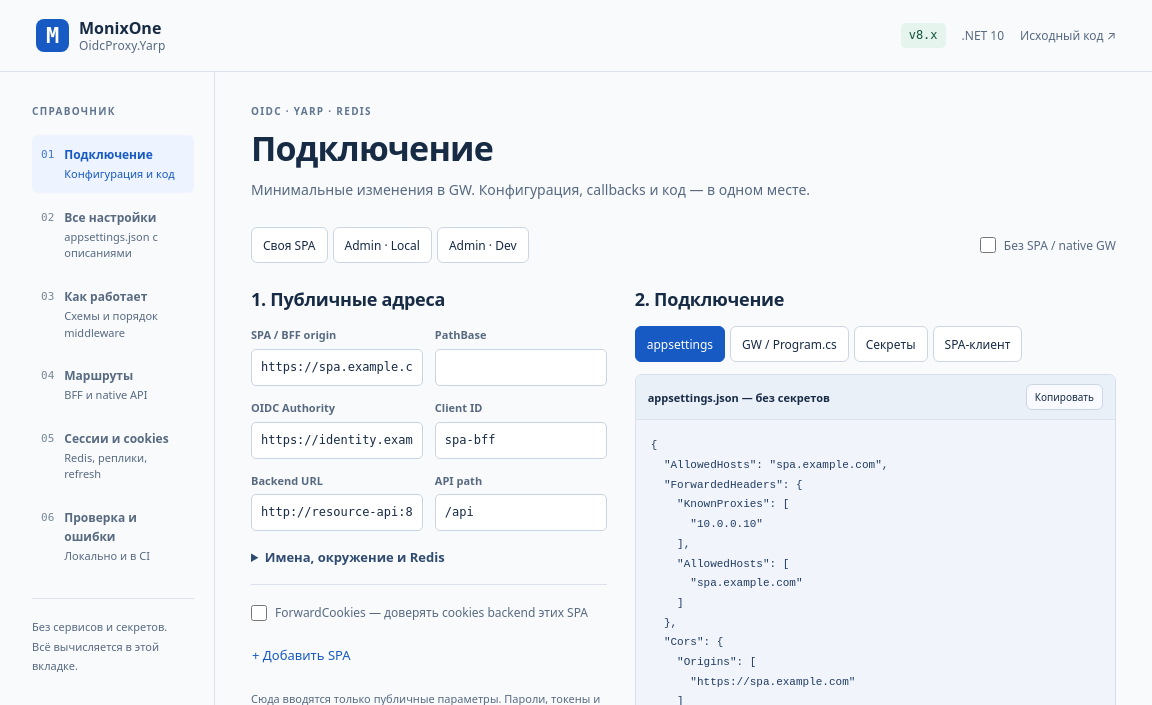
supports native GW without SPA settings or encryption/client secrets
The width and height of the screenshot is (1152, 705).
Clear the field labelled "OIDC Authority" at (337, 440), box [251,422,423,459]
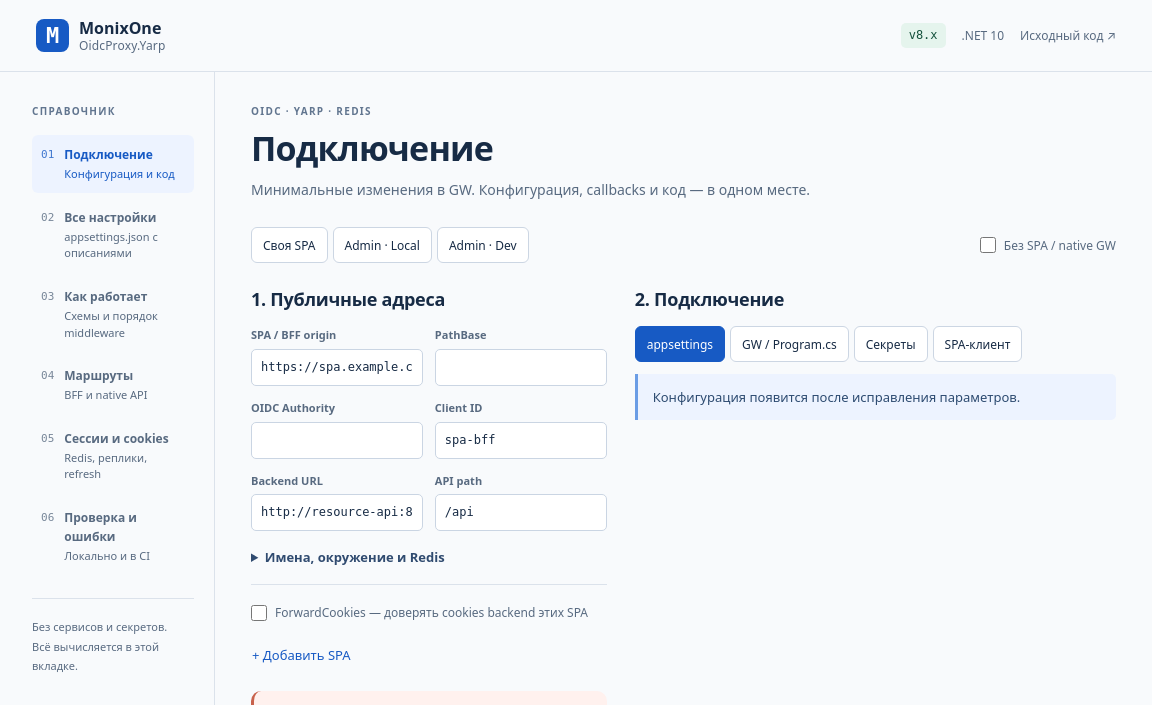
Click the checkbox labelled "Без SPA / native GW".
click(988, 245)  # box [980,237,996,253]
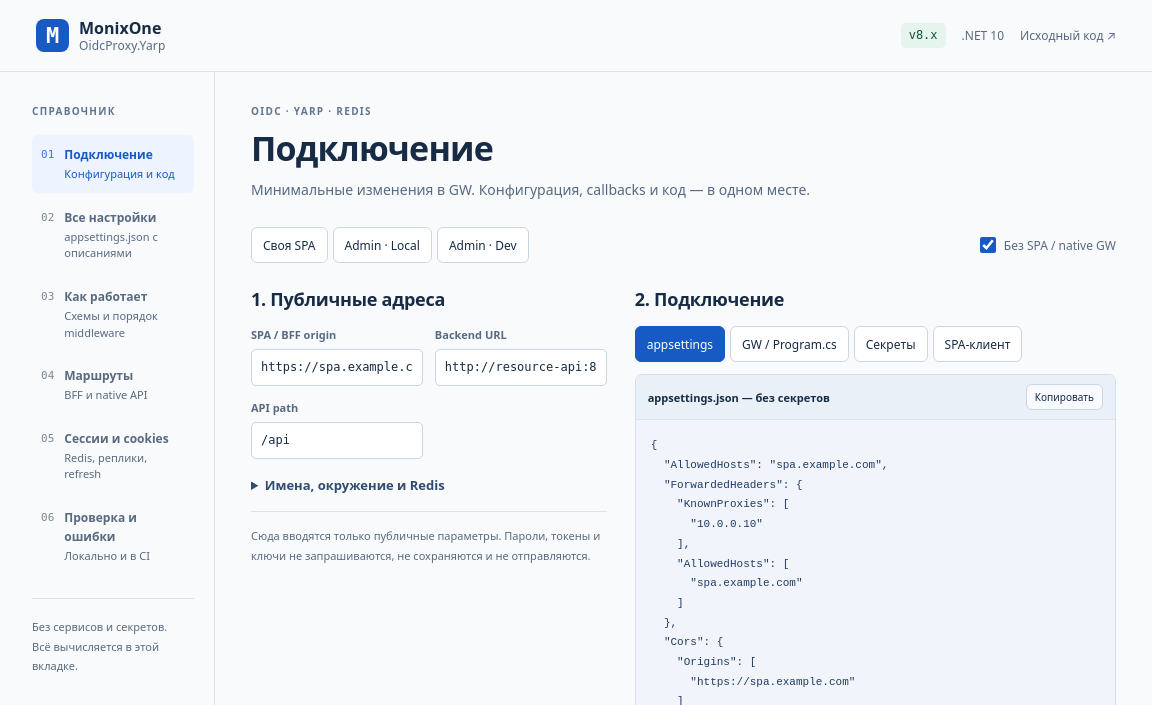
Click the button "Секреты".
click(891, 344)  # box [854,326,928,362]
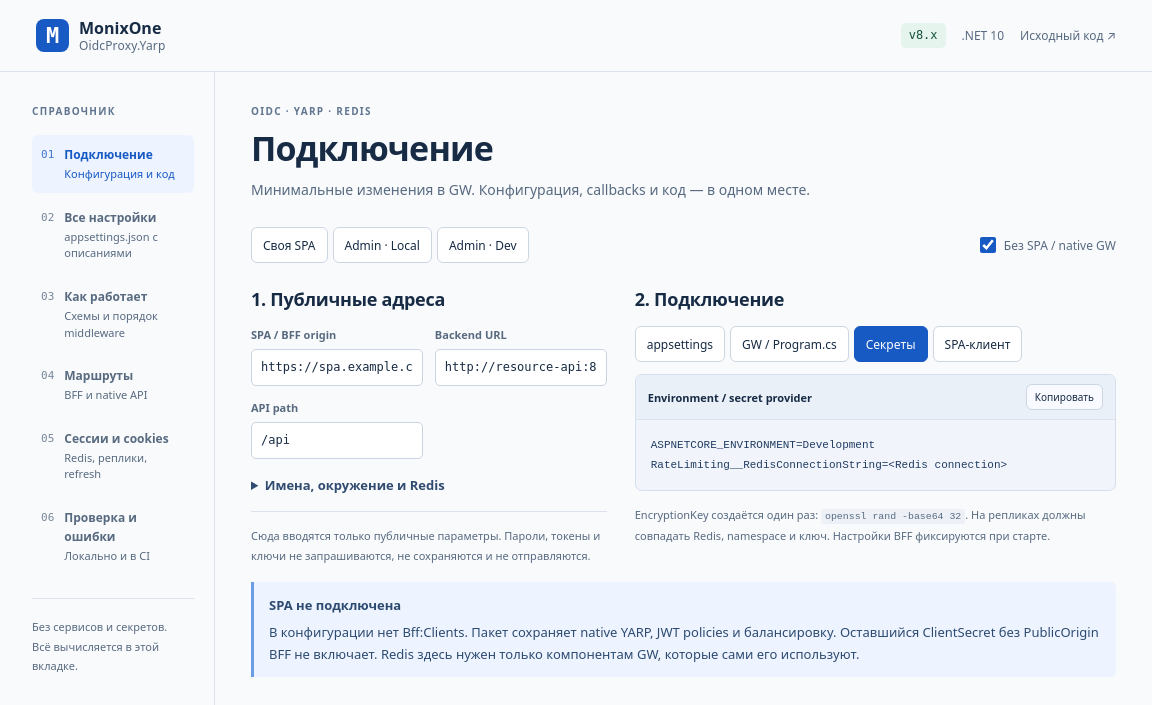
Expected: the element "Environment / secret provider" does not show "EncryptionKey", [635,374,1116,491]
Expected: the element "Environment / secret provider" shows "RateLimiting__RedisConnectionString", [651,439,1007,471]
